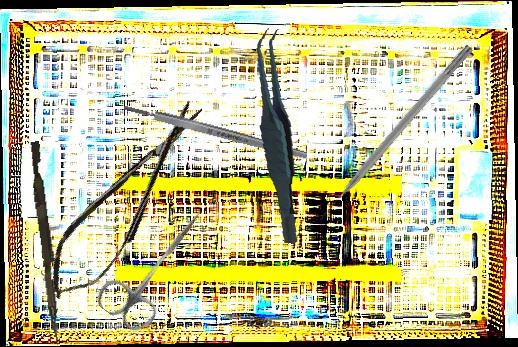Iris Scissors: (91, 194, 222, 338)
Micro Scissor: (29, 90, 225, 312)
Pusher: (314, 42, 474, 223), (25, 140, 67, 342)
Scalpel Handle: (122, 101, 309, 162)
Tissue Forceps: (236, 26, 320, 245)
